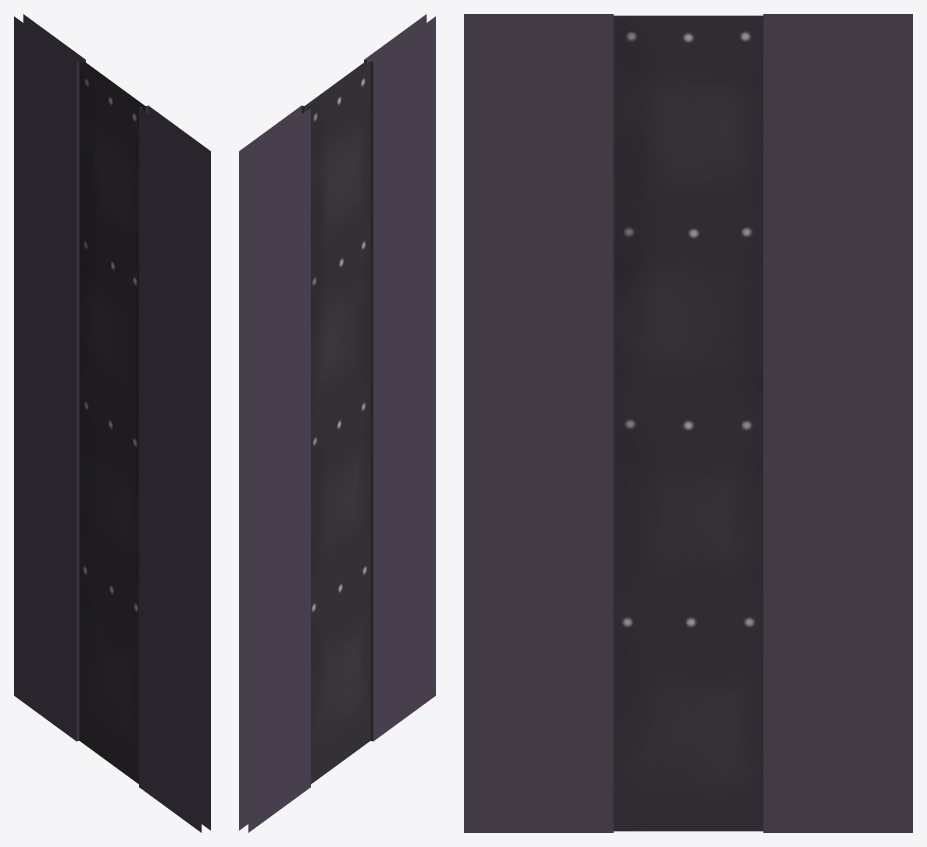
The model's file is wall01_extension.fbx.
3 renders of one model, left to right at view 1: azimuth 30°, elevation 25°; view 2: azimuth 150°, elevation 25°; view 3: azimuth 270°, elevation 25°, orthographic. The views are drawn at different scales.
Visible parts, largest first — view 1: wall01_extension; view 2: wall01_extension; view 3: wall01_extension.
Boxes of the visible parts, bbox=[...] form: wall01_extension: bbox=[14, 14, 210, 832]; wall01_extension: bbox=[239, 14, 435, 832]; wall01_extension: bbox=[464, 14, 912, 832].
Bounding box in the file's own units: 0.0569 × 4 × 2.
1 material, 1 textured.
